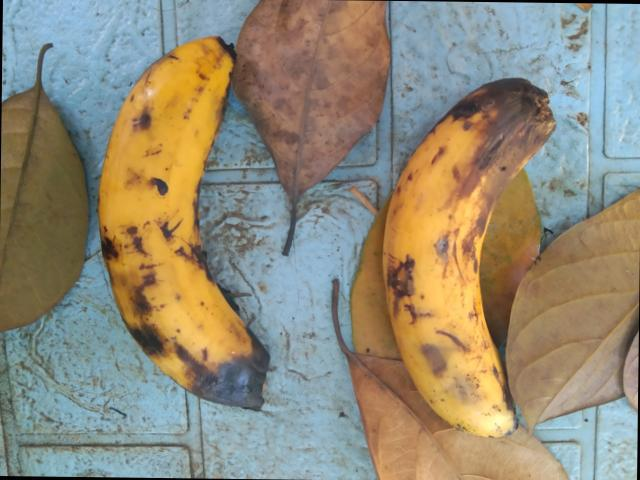overripe: (70, 25, 296, 420), (354, 63, 579, 442)
